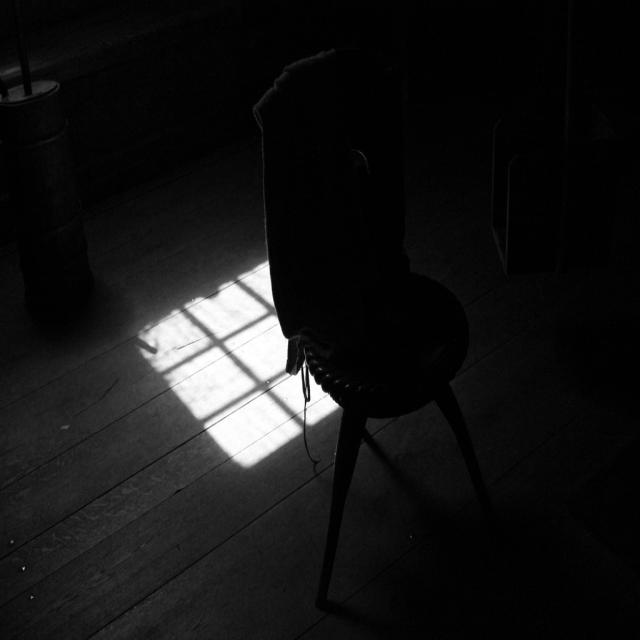chair: (244, 31, 499, 609)
